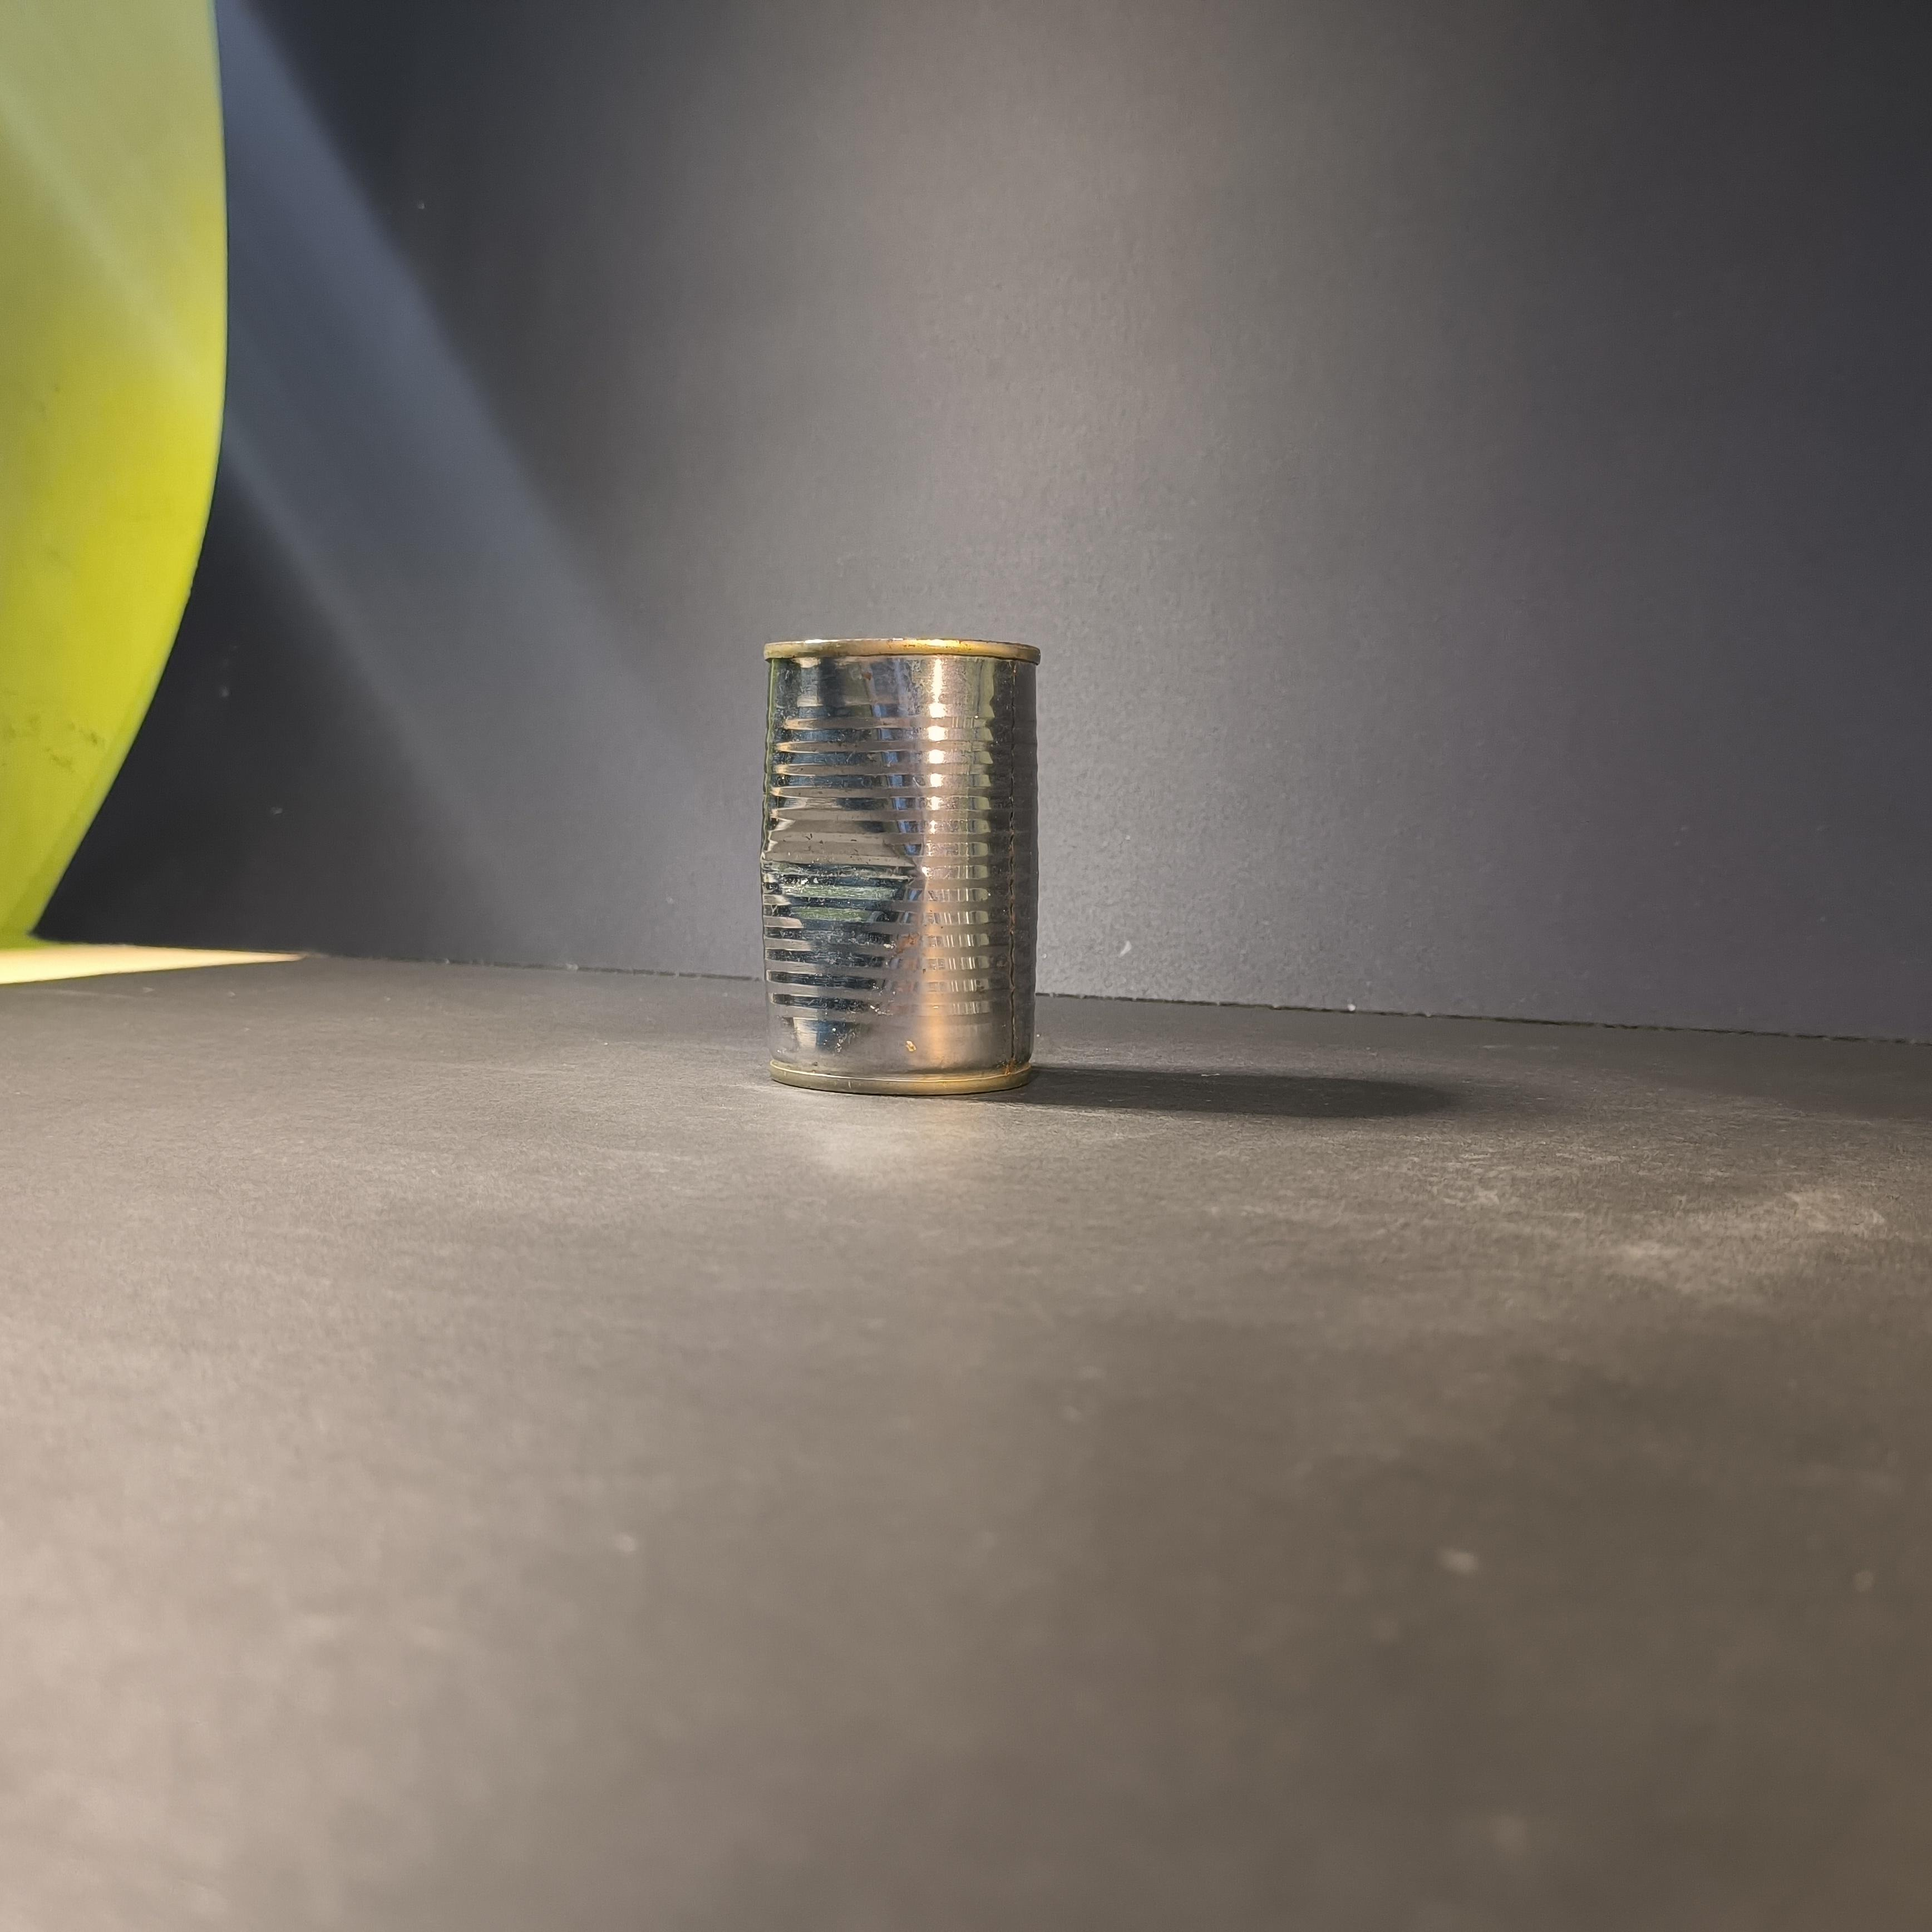Dented: (740, 616, 1058, 1127)
